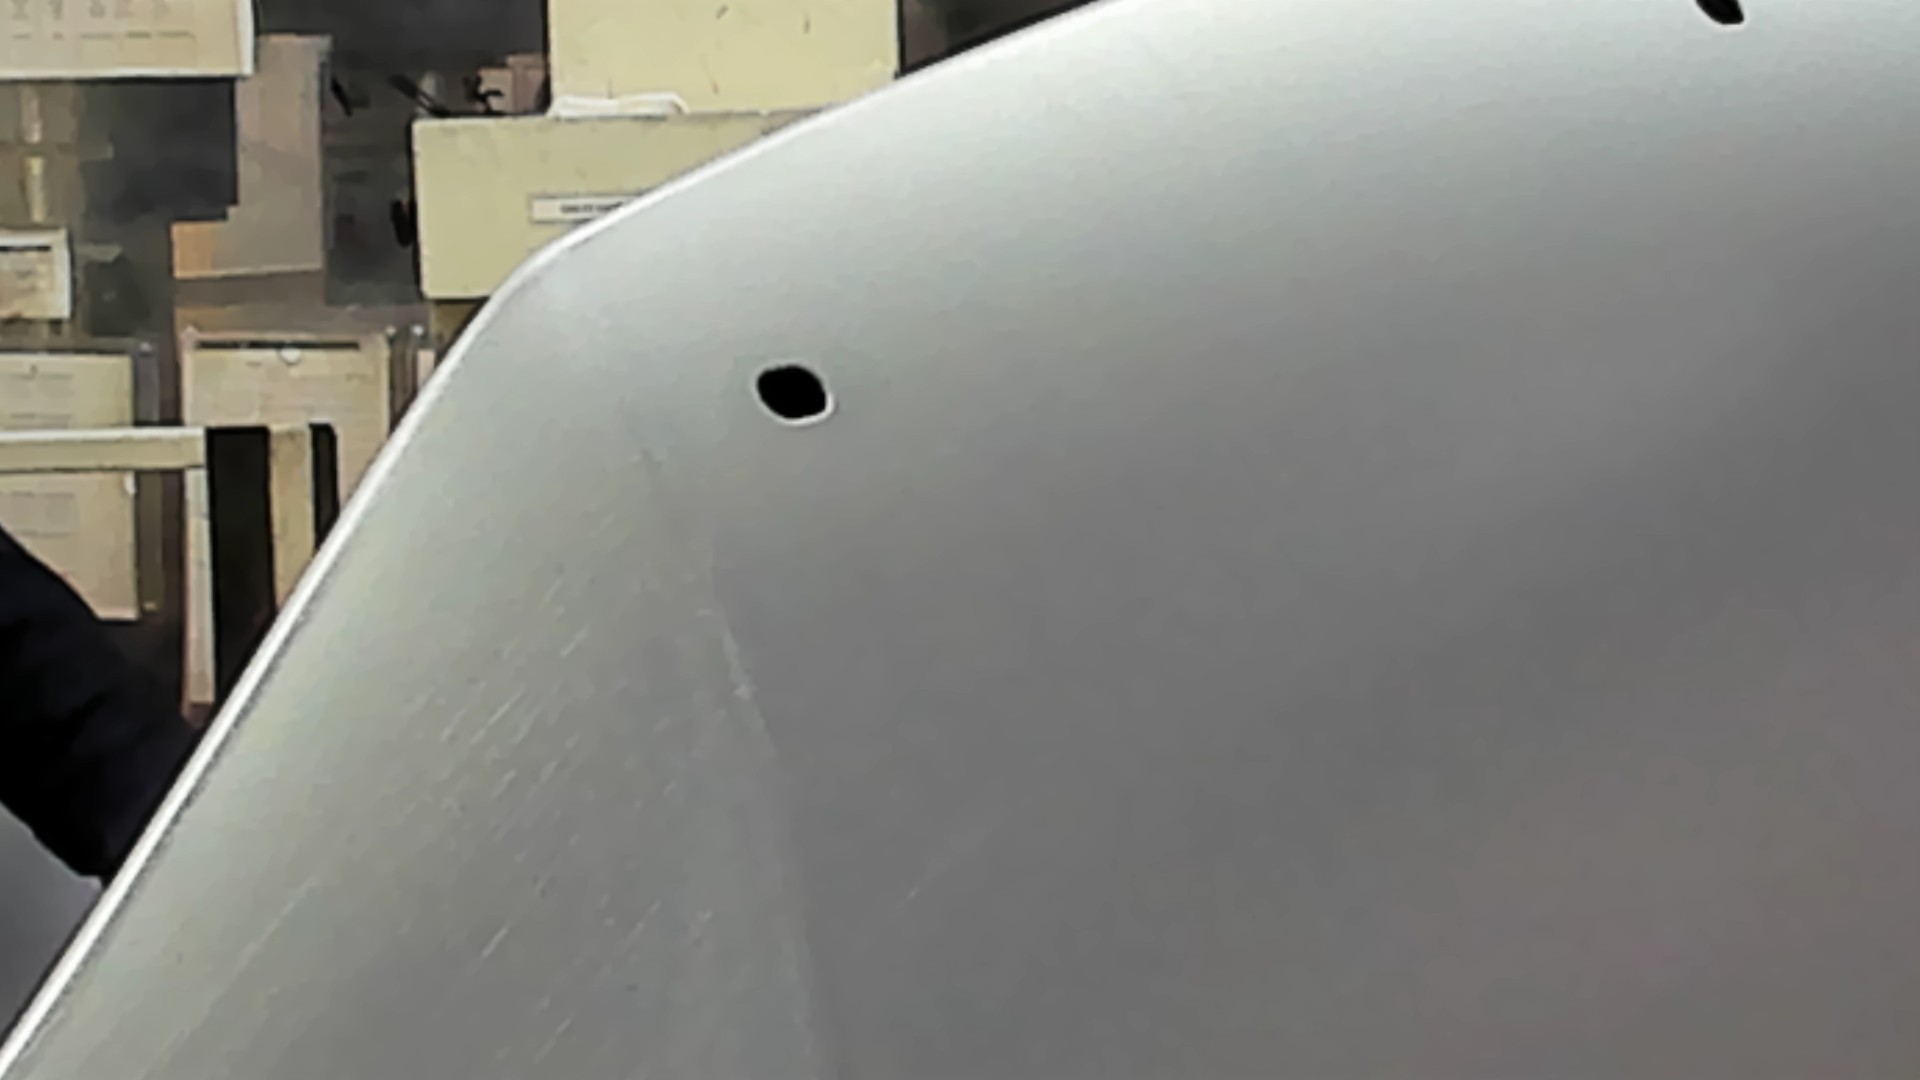amorfo: (750, 360, 836, 429), (1689, 1, 1751, 33)
